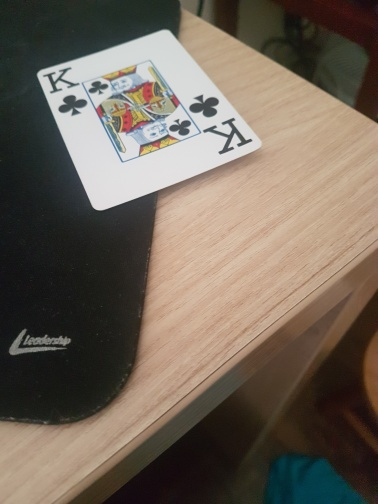king: (36, 28, 265, 210)
